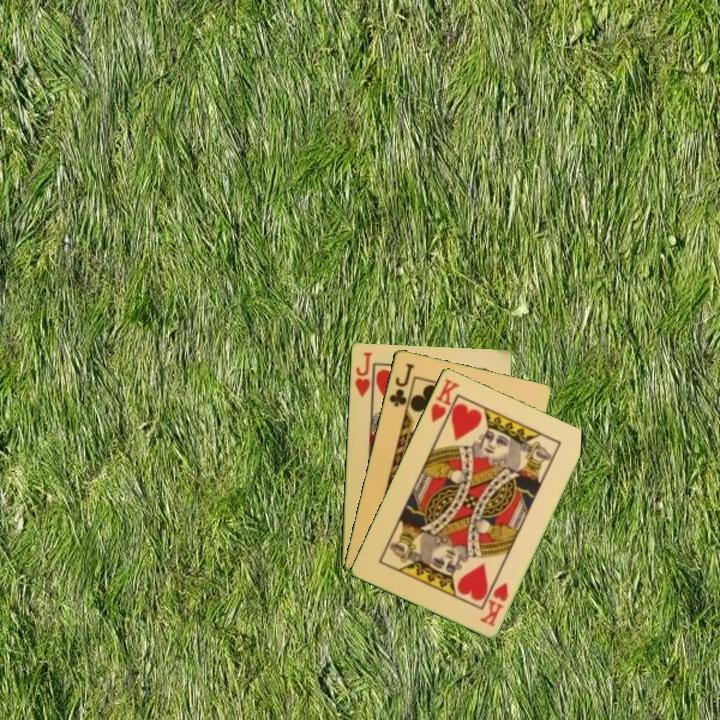Jc: (385, 359, 417, 409)
Jh: (351, 348, 375, 400)
Kh: (427, 375, 463, 432), (476, 578, 511, 629)
